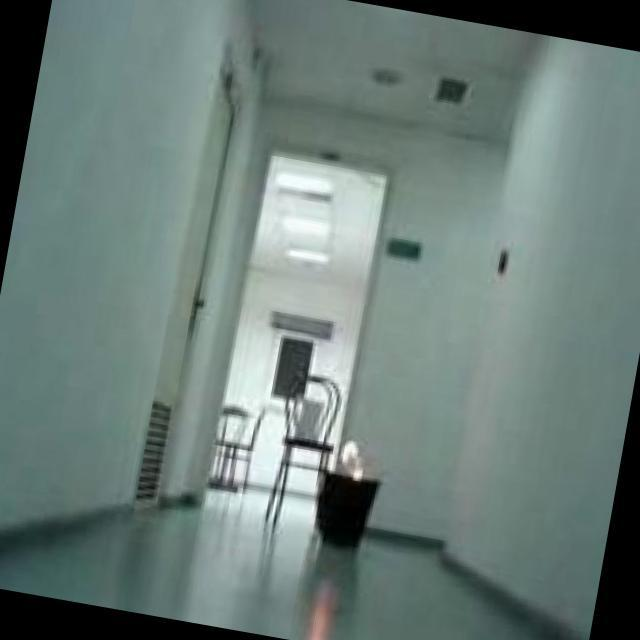Fire: (334, 437, 380, 479)
